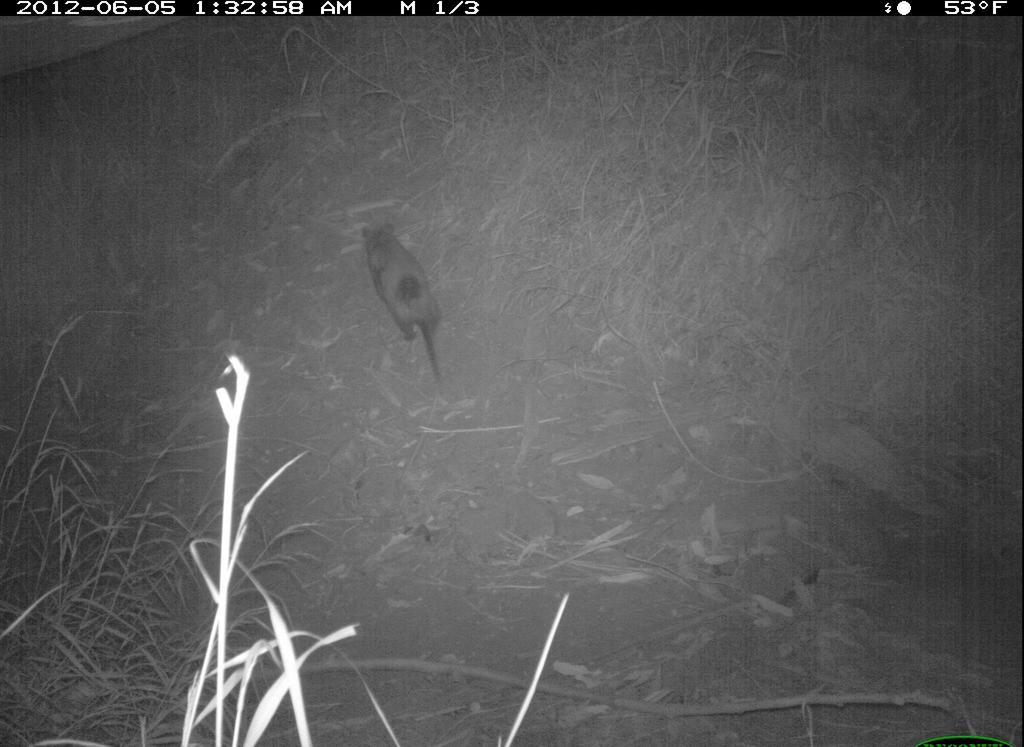opossum: (355, 216, 451, 385)
